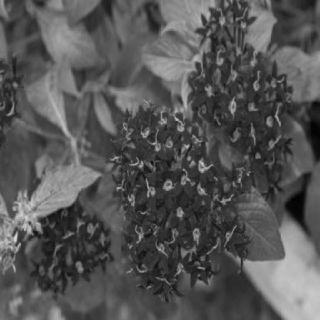other: (109, 108, 259, 306), (190, 1, 298, 188), (0, 46, 18, 146)
